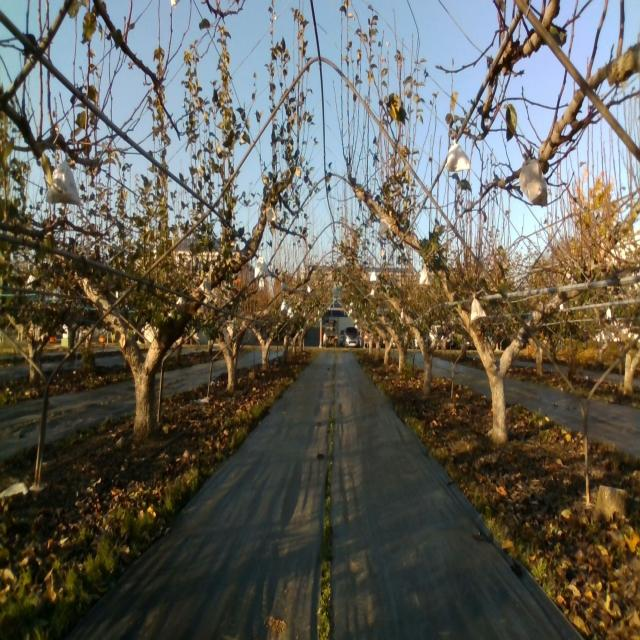pearbags: (46, 151, 83, 208), (518, 156, 548, 208), (445, 138, 471, 170), (470, 293, 487, 322), (198, 272, 214, 298), (254, 254, 270, 278), (419, 262, 432, 285), (378, 218, 392, 238), (266, 204, 278, 224)
